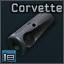AR-10 Nordic Components Corvette 7.62x51 muzzle brake: (0, 0, 64, 64)
